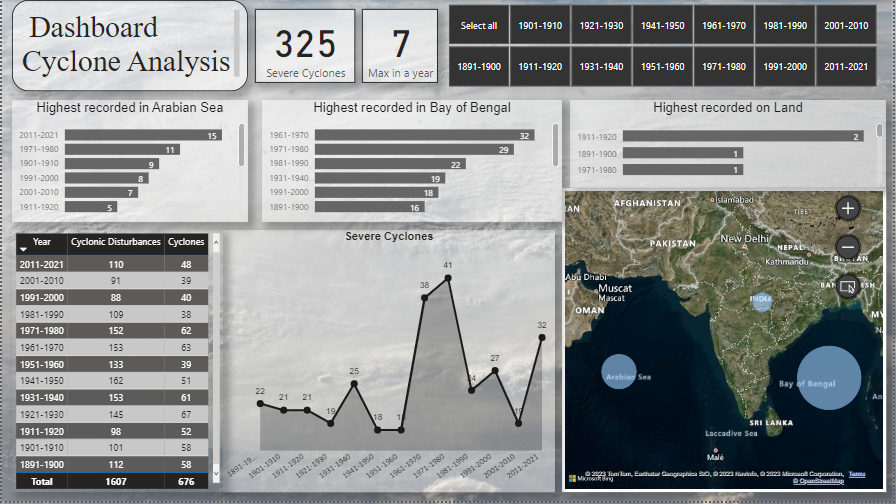

The page's visual inventory and layout, read from the dashboard file:
{"tool":"powerbi","page":{"name":"Page 1","canvas":[1280,720],"ordinal":0},"visuals":[{"type":"map","fields":{"Size":["Sum(Location_New.Total Cylones)"],"Category":["Location_New.Area"]},"box":[804.8,270.2,465.6,436.9],"z":0},{"type":"areaChart","title":"Severe Cyclones","fields":{"Category":["annualFrequency-1891-2021.Year (groups)"],"Y":["Sum(annualFrequency-1891-2021.Severe Cyclones - TOTAL)"]},"box":[317.6,330.5,477.1,376.5],"z":1000},{"type":"slicer","fields":{"Values":["annualFrequency-1891-2021.Year (groups)"]},"box":[616.5,0,664,130.8],"z":2000},{"type":"tableEx","fields":{"Values":["annualFrequency-1891-2021.Year (groups)","Sum(annualFrequency-1891-2021.Cyclonic Disturbances - TOTAL)","Sum(annualFrequency-1891-2021.Cyclones - TOTAL)"]},"box":[14.4,330.5,303.2,376.5],"z":3000},{"type":"textbox","box":[14.4,0,339.2,130.8],"z":4000},{"type":"card","fields":{"Values":["Sum(annualFrequency-1891-2021.Severe Cyclones - TOTAL)"]},"box":[363.6,12.9,143.7,106.3],"z":5000},{"type":"card","fields":{"Values":["Max(annualFrequency-1891-2021.Severe Cyclones - TOTAL)"]},"box":[517.4,12.9,109.2,106.3],"z":6000},{"type":"clusteredBarChart","title":"Highest recorded in Arabian Sea","fields":{"Y":["Sum(annualFrequency-1891-2021.Severe Cyclones - AS)"],"Category":["annualFrequency-1891-2021.Year (groups)"]},"box":[14.4,143.7,339.2,175.3],"z":7000},{"type":"clusteredBarChart","title":"Highest recorded in Bay of Bengal","fields":{"Category":["annualFrequency-1891-2021.Year (groups)"],"Y":["Sum(annualFrequency-1891-2021.Severe Cyclones - BOB)"]},"box":[373.7,143.7,431.1,175.3],"z":8000},{"type":"clusteredBarChart","title":"Highest recorded on Land","fields":{"Category":["annualFrequency-1891-2021.Year (groups)"],"Y":["Sum(annualFrequency-1891-2021.Severe Cyclones - LAND)"]},"box":[816.3,143.7,454.1,126.5],"z":9000}]}

Visuals, with their boxes in screenshot pixels (x1, y1, x2, y2), scaled from the page's 1280x720 canvas onto the 896x504 screenshot:
map - Sum(Location_New.Total Cylones) x Location_New.Area: BBox(563, 189, 889, 495)
"Severe Cyclones" areaChart: BBox(222, 231, 556, 495)
slicer - annualFrequency-1891-2021.Year (groups): BBox(432, 0, 895, 92)
tableEx - annualFrequency-1891-2021.Year (groups) x Sum(annualFrequency-1891-2021.Cyclonic Disturbances - TOTAL): BBox(10, 231, 222, 495)
textbox: BBox(10, 0, 248, 92)
card - Sum(annualFrequency-1891-2021.Severe Cyclones - TOTAL): BBox(255, 9, 355, 83)
card - Max(annualFrequency-1891-2021.Severe Cyclones - TOTAL): BBox(362, 9, 439, 83)
"Highest recorded in Arabian Sea" clusteredBarChart: BBox(10, 101, 248, 223)
"Highest recorded in Bay of Bengal" clusteredBarChart: BBox(262, 101, 563, 223)
"Highest recorded on Land" clusteredBarChart: BBox(571, 101, 889, 189)
